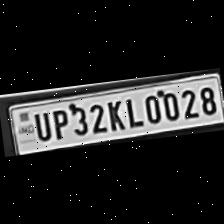0: (138, 90, 162, 124), (158, 87, 180, 121)
2: (176, 85, 198, 120), (86, 100, 108, 134)
3: (66, 102, 88, 136)
8: (194, 82, 216, 116)
K: (102, 96, 126, 132)
L: (122, 94, 142, 129)
P: (47, 105, 70, 140)
U: (30, 107, 52, 142)
